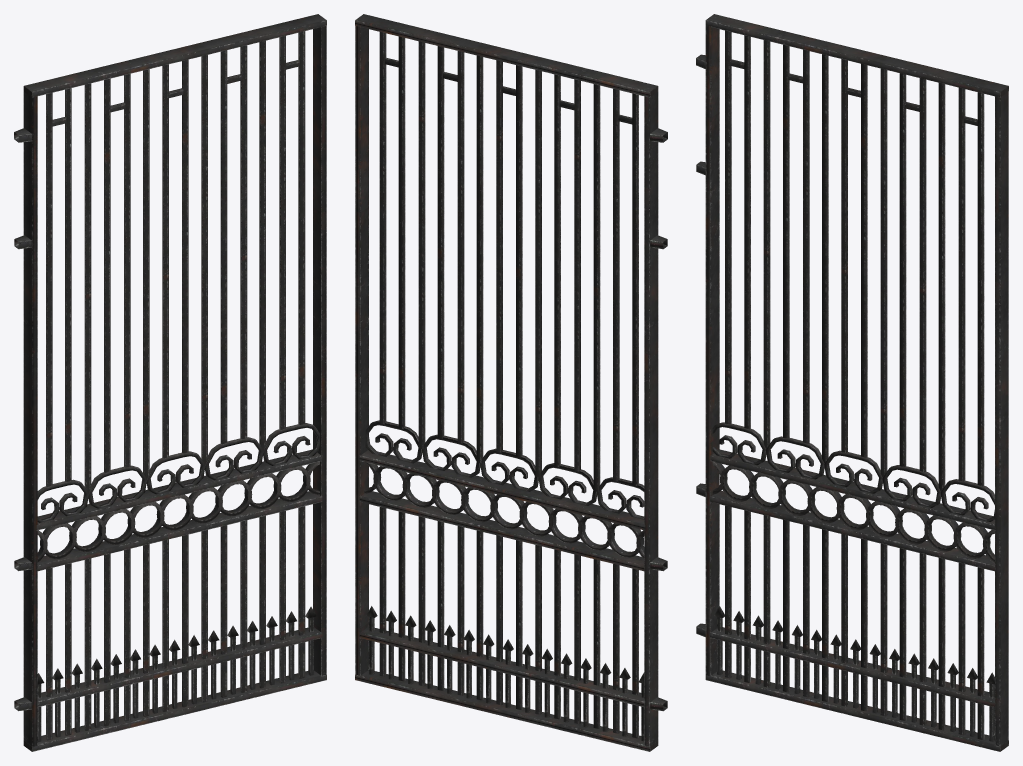
3 renders of one model, left to right at view 1: azimuth 30°, elevation 25°; view 2: azimuth 150°, elevation 25°; view 3: azimuth 330°, elevation 25°, orthographic.
Visible parts, largest first — view 1: SM_FenceDoor02_LOD0; view 2: SM_FenceDoor02_LOD0; view 3: SM_FenceDoor02_LOD0.
Part boxes in pixels (x1,y1,x2,y2): SM_FenceDoor02_LOD0: [14, 14, 326, 751]; SM_FenceDoor02_LOD0: [355, 14, 667, 751]; SM_FenceDoor02_LOD0: [696, 14, 1008, 751].
Size of the model in its own units: 1.66 by 3.42 by 0.0801.
1 material, 1 textured.
